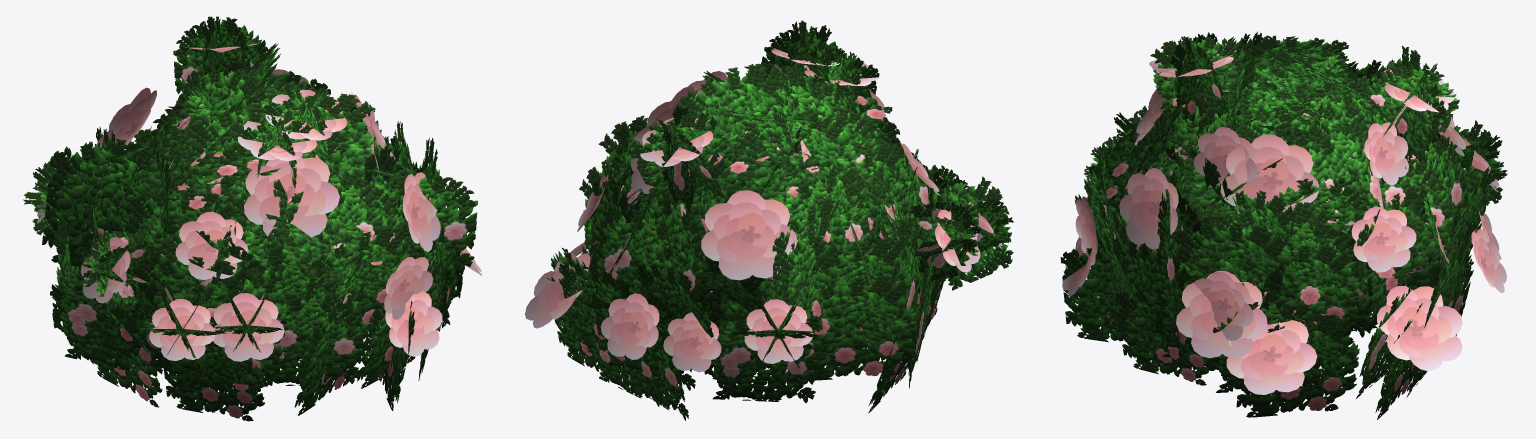
The model's file is mm6_deco_flower11.glb.
3 renders of one model, left to right at view 1: azimuth 30°, elevation 25°; view 2: azimuth 150°, elevation 25°; view 3: azimuth 270°, elevation 25°, orthographic. The views are drawn at different scales.
Parts seen in each view (by area): view 1: Plant; view 2: Plant; view 3: Plant.
Part boxes in pixels (bbox=[...]): Plant: bbox=[23, 16, 481, 421]; Plant: bbox=[525, 20, 1013, 420]; Plant: bbox=[1060, 31, 1507, 419].
Size of the model in its own units: 0.6246 by 0.4547 by 0.601.
1 material, 1 textured.
